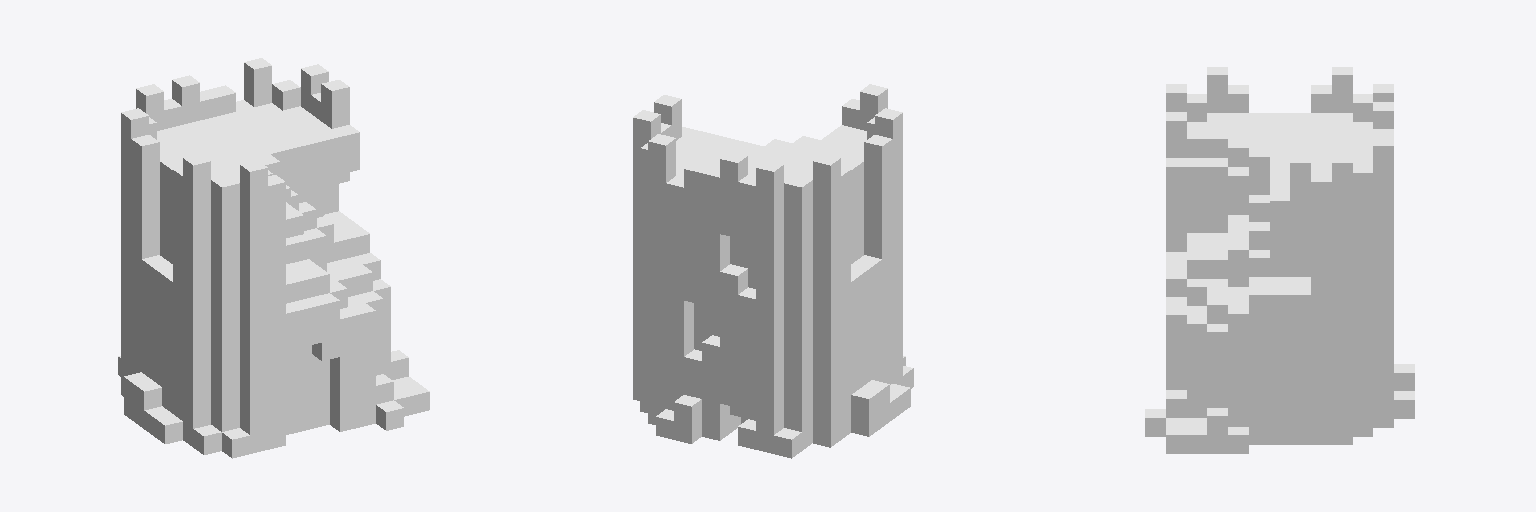
Rendered from DestroyedOutpost.obj.
The picture shows the model from 3 angles: view 1: azimuth 30°, elevation 25°; view 2: azimuth 150°, elevation 25°; view 3: azimuth 270°, elevation 25°; orthographic projection.
Visible parts, largest first — view 1: object 1; view 2: object 1; view 3: object 1.
Boxes of the visible parts, x1=… form: object 1: x1=118, y1=58, x2=429, y2=458; object 1: x1=633, y1=84, x2=913, y2=458; object 1: x1=1145, y1=67, x2=1414, y2=453.
Size of the model in its own units: 1.3 by 1.5 by 1.3.